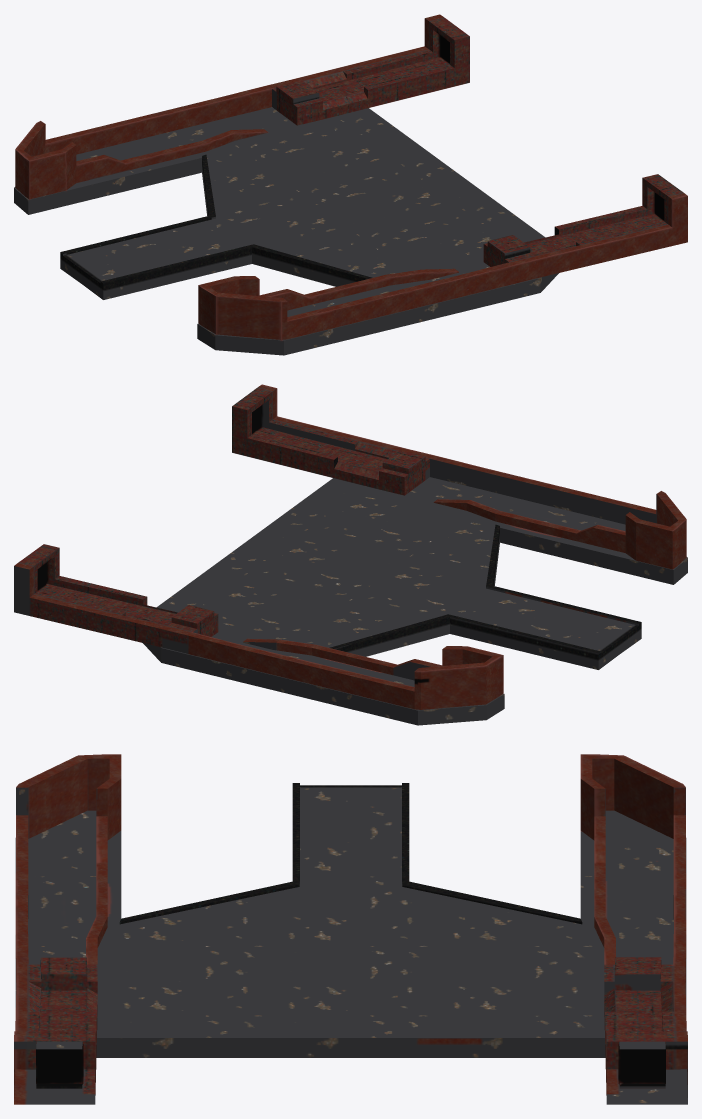
3 renders of one model, top to bottom at view 1: azimuth 30°, elevation 25°; view 2: azimuth 150°, elevation 25°; view 3: azimuth 270°, elevation 25°, orthographic. The views are drawn at different scales.
Visible parts, largest first — view 1: MainPlatform.003; view 2: MainPlatform.003; view 3: MainPlatform.003.
Boxes of the visible parts, box(x1,y1,x2,y2) form: MainPlatform.003: box(14, 14, 687, 355); MainPlatform.003: box(14, 384, 687, 725); MainPlatform.003: box(14, 754, 687, 1104).
Size of the model in its own units: 18379 by 2245 by 16357.
